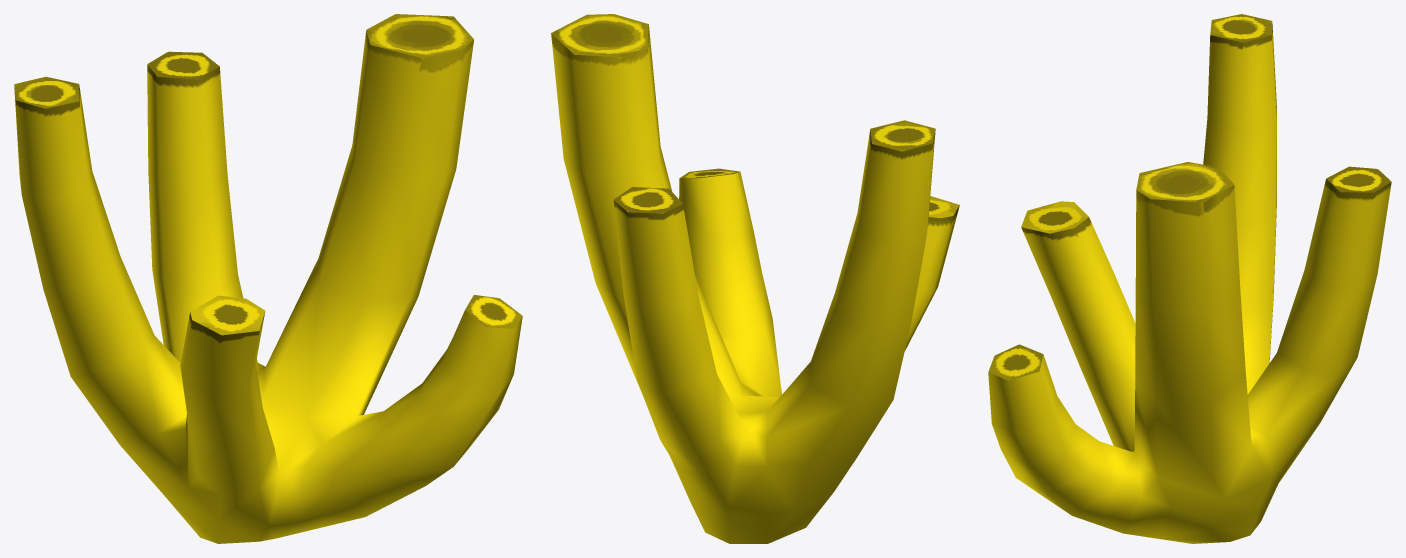
Rendered from Coral.fbx.
3 views of the same model, side by side, from view 1: azimuth 30°, elevation 25°; view 2: azimuth 150°, elevation 25°; view 3: azimuth 270°, elevation 25° (orthographic). The views are drawn at different scales.
Visible parts, largest first — view 1: Plane.004; view 2: Plane.004; view 3: Plane.004.
Part boxes in pixels (x1=…): Plane.004: x1=14, y1=14, x2=522, y2=543; Plane.004: x1=551, y1=14, x2=959, y2=543; Plane.004: x1=988, y1=14, x2=1391, y2=543.
Size of the model in its own units: 27.19 by 28.46 by 24.88.
1 material, 1 textured.
